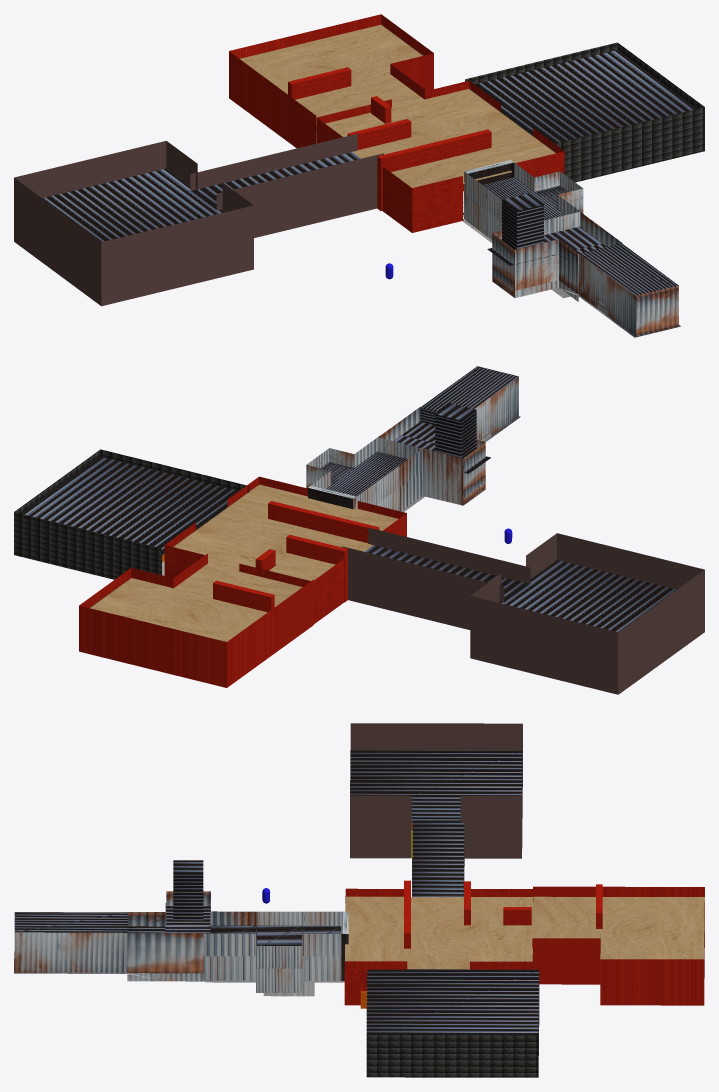
File: cenario1 (1).glb
3 views of the same model, one above another, from view 1: azimuth 30°, elevation 25°; view 2: azimuth 150°, elevation 25°; view 3: azimuth 270°, elevation 25° (orthographic). The views are drawn at different scales.
Visible parts, largest first — view 1: chao.005, teto.003, chao.009, parede, teto.002, teto.004, parede.002, chao.008, TETO, chao.007, teto.001, divisorias (+4 smaller); view 2: chao.005, chao.008, teto.003, chao.009, teto.002, teto.004, parede.002, TETO, parede, teto.001, chao.007, parede.001 (+4 smaller); view 3: chao.005, teto.002, teto.003, chao.008, parede, teto.004, TETO, parede.001, parede.002, teto.001, teto.005, chao.007 (+3 smaller).
Boxes of the visible parts, <box> form: chao.005: <box>14,140,253,306</box>; teto.003: <box>474,50,696,143</box>; chao.009: <box>190,134,383,237</box>; parede: <box>492,212,678,336</box>; teto.002: <box>325,89,555,187</box>; teto.004: <box>240,24,424,125</box>; parede.002: <box>465,42,704,182</box>; chao.008: <box>229,14,433,148</box>; TETO: <box>42,168,225,241</box>; chao.007: <box>316,81,564,232</box>; teto.001: <box>487,193,678,295</box>; divisorias: <box>347,96,491,210</box>; chao.005: <box>470,533,704,694</box>; chao.008: <box>79,553,313,687</box>; teto.003: <box>22,456,238,555</box>; chao.009: <box>342,527,530,629</box>; teto.002: <box>173,484,398,580</box>; teto.004: <box>89,563,302,641</box>; parede.002: <box>14,449,248,579</box>; TETO: <box>498,560,676,632</box>; parede: <box>378,366,518,505</box>; teto.001: <box>394,366,518,473</box>; chao.007: <box>164,476,406,624</box>; parede.001: <box>306,435,422,511</box>; chao.005: <box>350,723,522,858</box>; teto.002: <box>345,896,533,969</box>; teto.003: <box>366,969,539,1034</box>; chao.008: <box>532,886,704,1005</box>; parede: <box>14,891,210,981</box>; teto.004: <box>533,896,704,959</box>; TETO: <box>350,750,522,822</box>; parede.001: <box>203,911,348,992</box>; parede.002: <box>366,977,539,1077</box>; teto.001: <box>14,860,210,932</box>; teto.005: <box>412,820,464,896</box>; chao.007: <box>344,888,533,1005</box>.
Size of the model in its own units: 73.09 by 10.5 by 73.13.
Materials: 19 (15 with a texture image).
